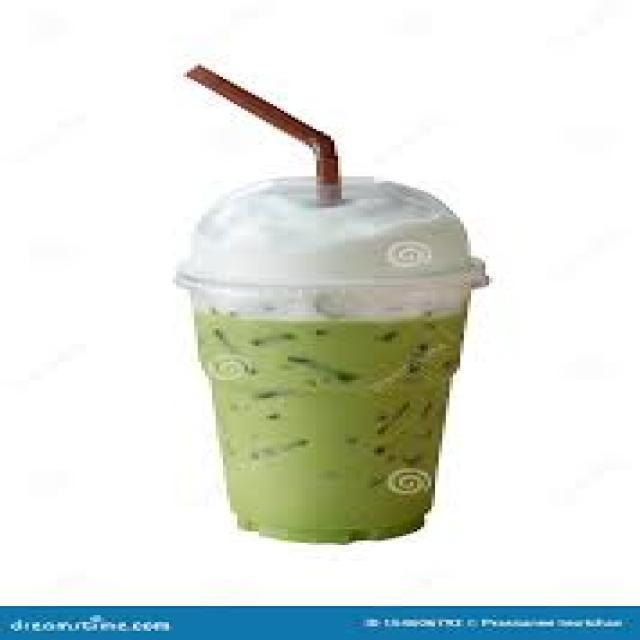cup: (197, 300, 464, 542)
